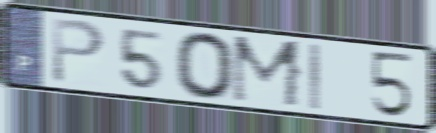5: (369, 48, 416, 119), (117, 27, 166, 91)
I: (307, 41, 323, 113)
M: (228, 33, 305, 111)
O: (172, 30, 237, 102)
P: (49, 15, 108, 86)
